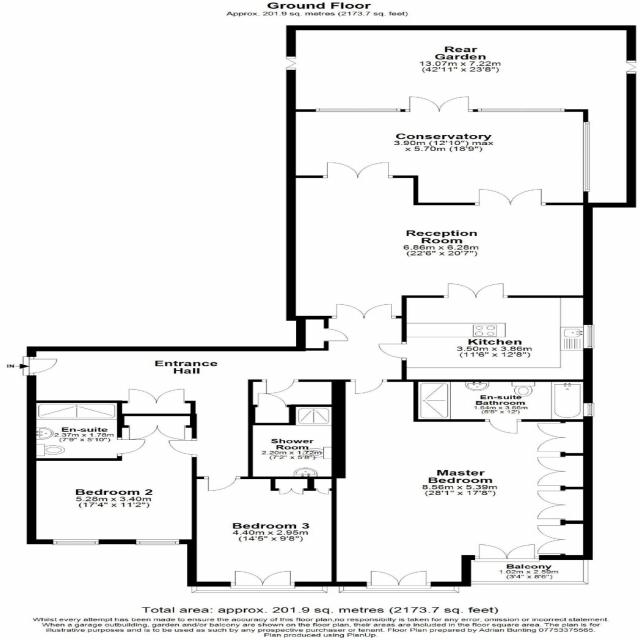DOOR: (22, 356, 58, 376), (377, 341, 407, 361), (116, 437, 146, 457), (167, 438, 197, 458), (350, 379, 388, 394), (484, 419, 522, 434), (203, 476, 241, 491)
DOUBLE DOOR: (364, 566, 434, 594), (474, 186, 549, 208), (324, 158, 396, 180), (231, 566, 298, 589), (440, 279, 510, 300), (332, 302, 402, 322)
ROOM: (331, 379, 593, 593), (286, 162, 594, 321), (26, 413, 197, 545), (378, 283, 595, 382), (187, 476, 337, 589)
WINDOW: (583, 324, 596, 349), (582, 403, 595, 417)
